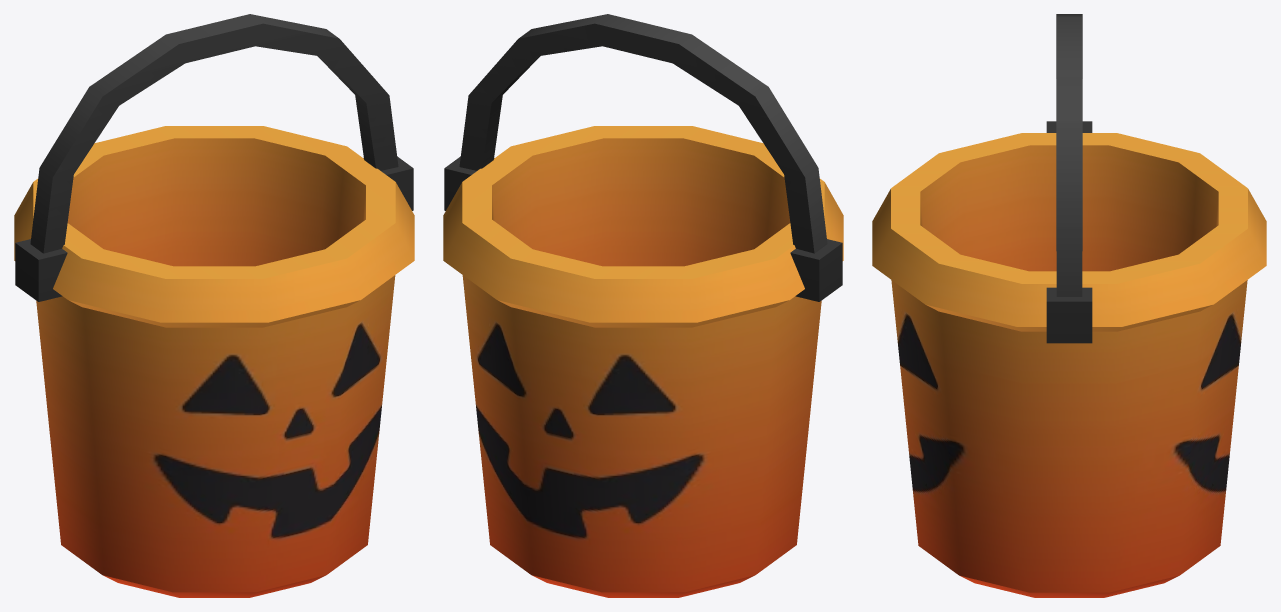
Rendered from candy_bucket_A.gltf.
3 views of the same model, side by side, from view 1: azimuth 30°, elevation 25°; view 2: azimuth 150°, elevation 25°; view 3: azimuth 270°, elevation 25° (orthographic).
Visible parts, largest first — view 1: candy_bucket_A, candy_bucket_A_handle; view 2: candy_bucket_A, candy_bucket_A_handle; view 3: candy_bucket_A, candy_bucket_A_handle.
Part boxes in pixels (x1,y1,x2,y2): candy_bucket_A: (14,126,414,597); candy_bucket_A_handle: (15,14,413,301); candy_bucket_A: (443,126,843,597); candy_bucket_A_handle: (444,14,842,301); candy_bucket_A: (872,133,1266,597); candy_bucket_A_handle: (1046,14,1092,343).
Size of the model in its own units: 0.8966 by 1.17 by 0.8286.
1 material, 1 textured.
